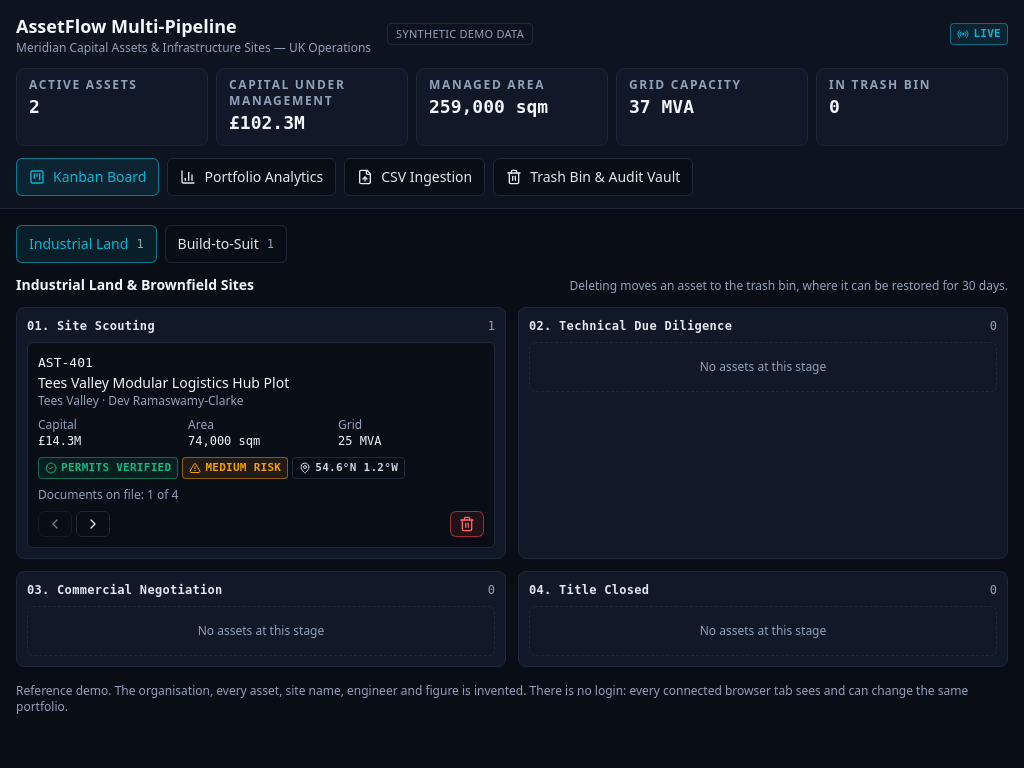
App › follows a delete and a restore made in another tab
Later steps or results of the test are not shown.
Click the tab "Build-to-Suit 1": (226, 244) [165, 225, 287, 263]
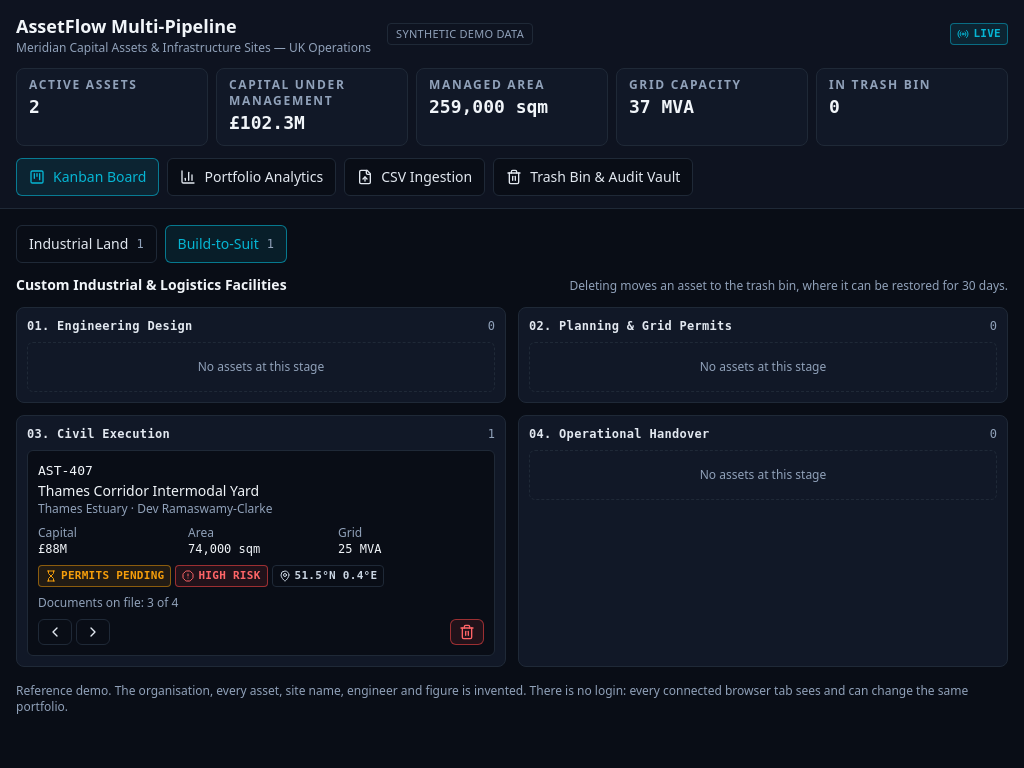
Check: the text "AST-407" is shown, box [38, 463, 93, 478]
